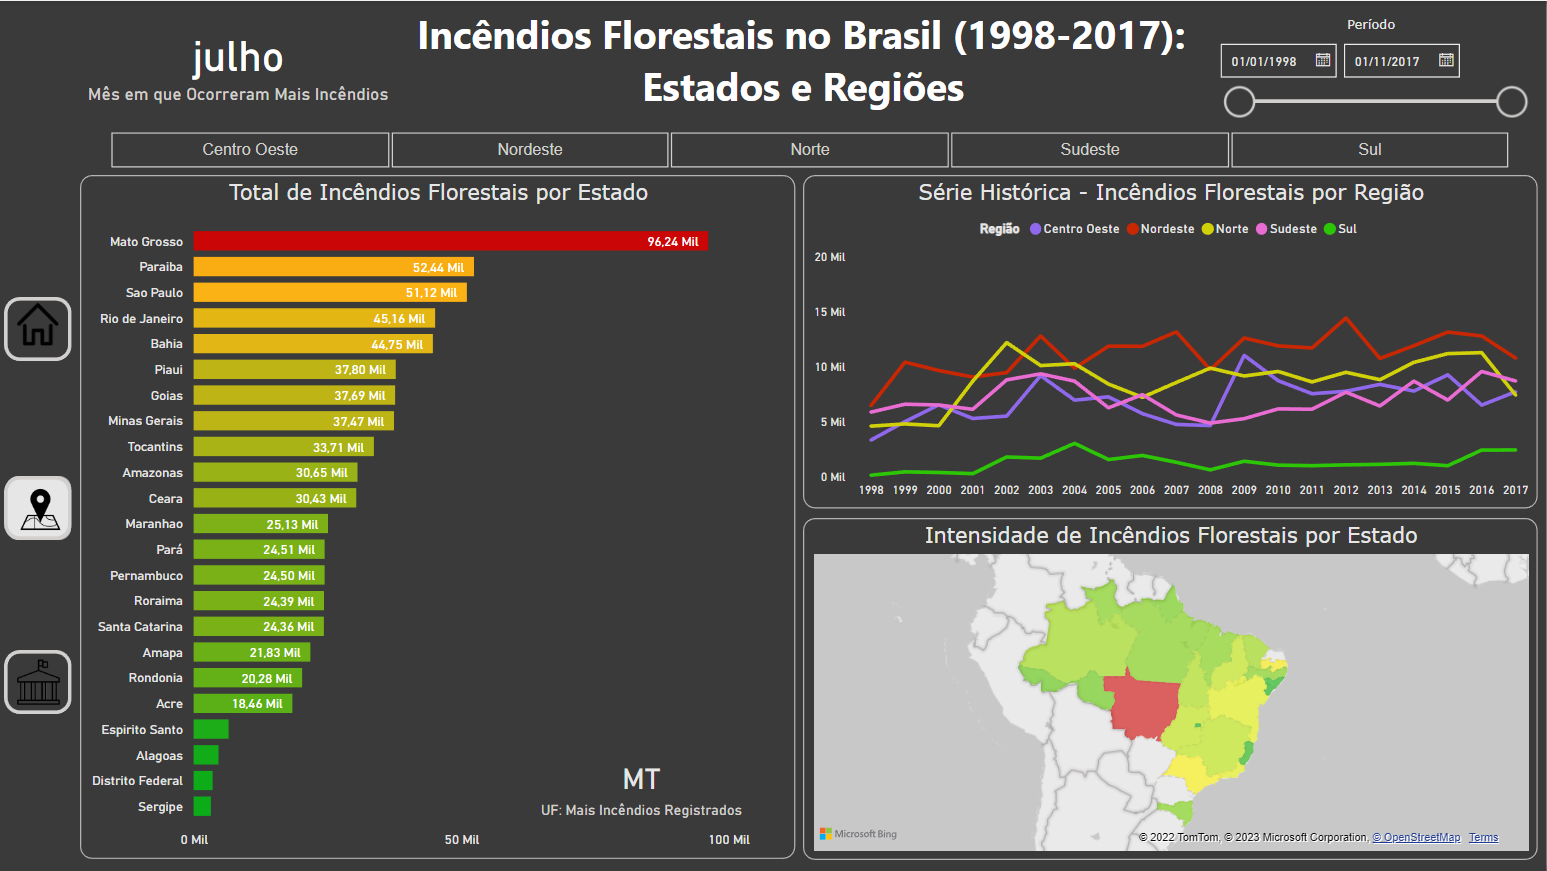

This screenshot's page, from the dashboard's own definition file:
{"tool":"powerbi","page":{"name":"Estados e Regiões","canvas":[1280,720],"ordinal":1},"visuals":[{"type":"image","box":[3.5,537.4,56.2,52.7],"z":0},{"type":"image","box":[5.3,393.4,54.4,52.7],"z":1000},{"type":"image","box":[6.1,245,50,44.8],"z":2000},{"type":"textbox","box":[339.8,0,648.9,101.9],"z":3000},{"type":"slicer","fields":{"Values":["amazon_data.Region"]},"box":[65.9,101.9,1206.4,43],"z":4000},{"type":"slicer","title":"Período","fields":{"Values":["amazon_data.Date"]},"box":[997.5,12.3,274.8,89.6],"z":5000},{"type":"clusteredBarChart","title":"Total de Incêndios Florestais por Estado","fields":{"Category":["amazon_data.State"],"Y":["Sum(amazon_data.Num_wild_fires)"]},"box":[65.9,144,591.8,566.3],"z":6000},{"type":"lineChart","title":"Série Histórica - Incêndios Florestais por Região","fields":{"Y":["Sum(amazon_data.Num_wild_fires)"],"Category":["amazon_data.Date.Variation.Hierarquia de datas.Ano"],"Series":["amazon_data.Region"]},"box":[664.7,144,607.6,275.7],"z":7000},{"type":"filledMap","title":"Intensidade de Incêndios Florestais por Estado","fields":{"Category":["amazon_data.State"]},"box":[664.7,427.6,607.6,282.7],"z":8000},{"type":"card","fields":{"Values":["Min(amazon_data.UF)"]},"box":[439.6,611.8,182.9,75.9],"z":9000},{"type":"card","fields":{"Values":["Min(amazon_data.Date.Variation.Hierarquia de datas.Mês)"]},"box":[65.9,4.4,261.7,93.1],"z":10000},{"type":"actionButton","box":[3.5,245,56.2,52.7],"z":11000},{"type":"actionButton","box":[3.5,393.4,56.2,52.7],"z":12000},{"type":"actionButton","box":[3.5,537.4,56.2,52.7],"z":13000}]}

Visuals, with their boxes in screenshot pixels (x1, y1, x2, y2), scaled from the page's 1280x720 canvas onto the 1547x871 screenshot:
image: rect(4, 650, 72, 714)
image: rect(6, 476, 72, 540)
image: rect(7, 296, 68, 351)
textbox: rect(411, 0, 1195, 123)
slicer - amazon_data.Region: rect(80, 123, 1538, 175)
"Período" slicer: rect(1206, 15, 1538, 123)
"Total de Incêndios Florestais por Estado" clusteredBarChart: rect(80, 174, 795, 859)
"Série Histórica - Incêndios Florestais por Região" lineChart: rect(803, 174, 1538, 508)
"Intensidade de Incêndios Florestais por Estado" filledMap: rect(803, 517, 1538, 859)
card - Min(amazon_data.UF): rect(531, 740, 752, 832)
card - Min(amazon_data.Date.Variation.Hierarquia de datas.Mês): rect(80, 5, 396, 118)
actionButton: rect(4, 296, 72, 360)
actionButton: rect(4, 476, 72, 540)
actionButton: rect(4, 650, 72, 714)
